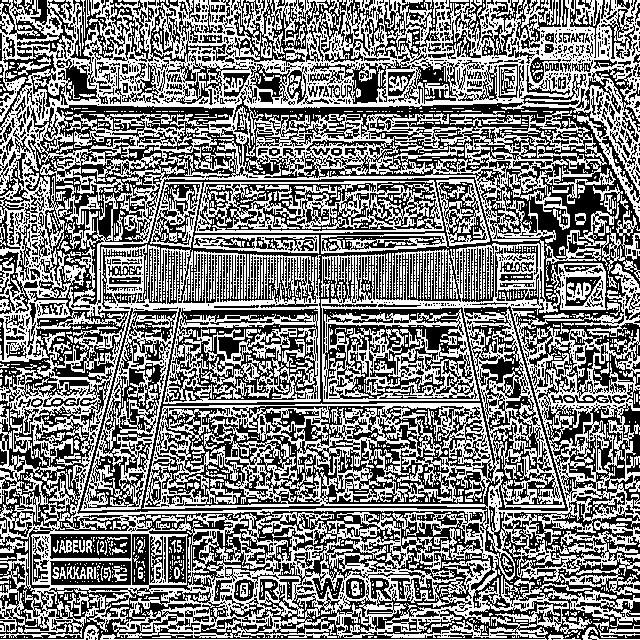left side: (434, 178, 566, 509), (77, 180, 203, 511)
player: (469, 458, 511, 610), (231, 90, 253, 176)
